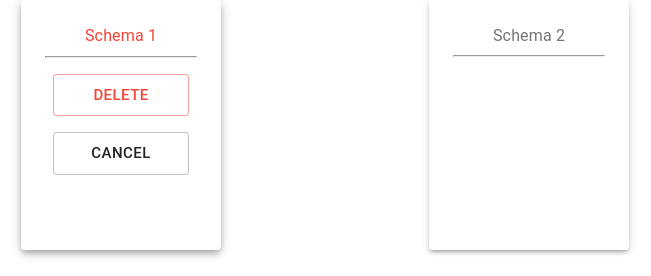
it: SchemasBoard with "activeSchemaId" › CustomCardButtons is displayed when another Card is clicked ("mode" = "DELETE")
Click the button "Schema 2" at (529, 125), box [453, 24, 605, 226]
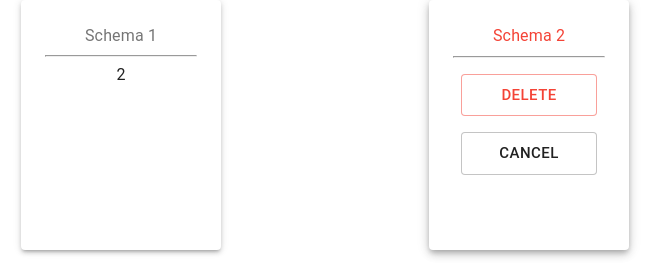
Expected: the button "Delete" is shown, [461, 74, 597, 116]
Result: the button "Schema 2 Delete Cancel" is shown at [429, 0, 629, 250]
